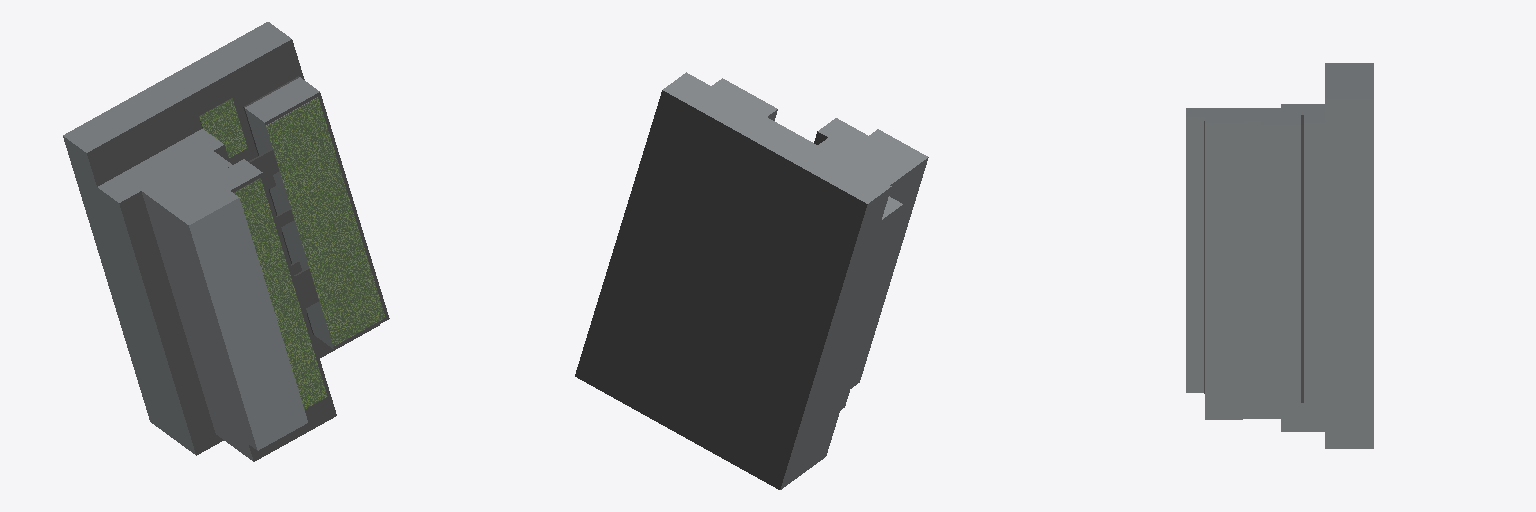
3 renders of one model, left to right at view 1: azimuth 30°, elevation 25°; view 2: azimuth 150°, elevation 25°; view 3: azimuth 270°, elevation 25°, orthographic.
Size of the model in its own units: 253 by 307 by 140.
3 materials, 1 textured.